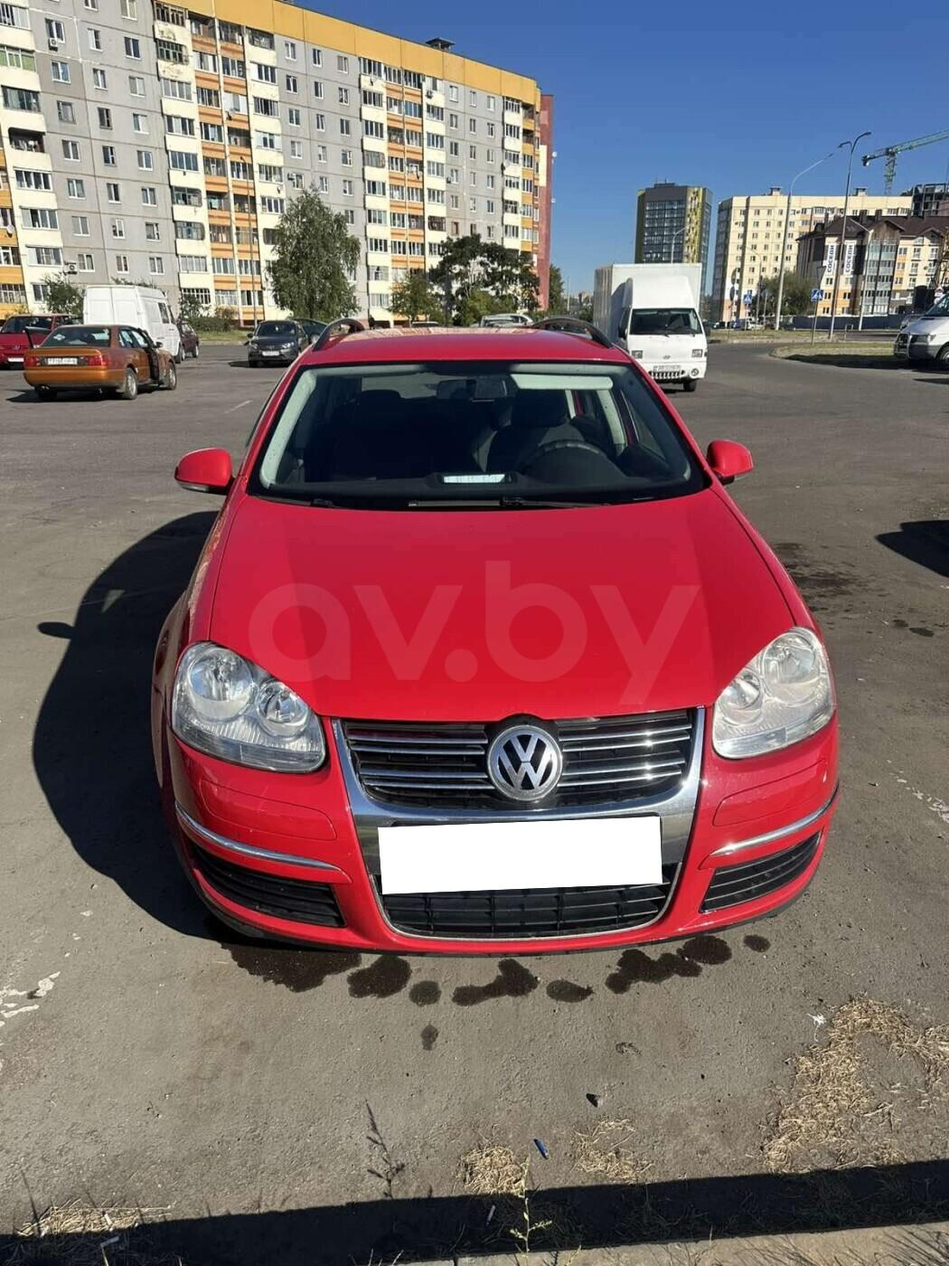Golf_2003-2009: (149, 308, 850, 949)
